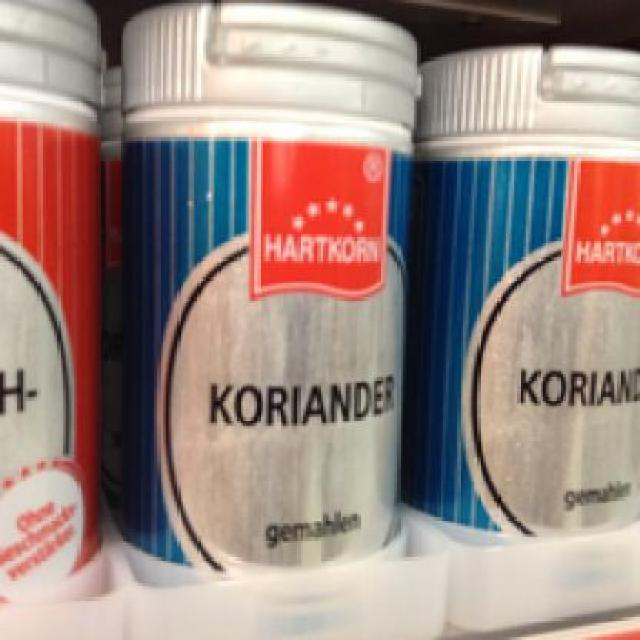Spices: (119, 0, 418, 575), (414, 36, 637, 532)
